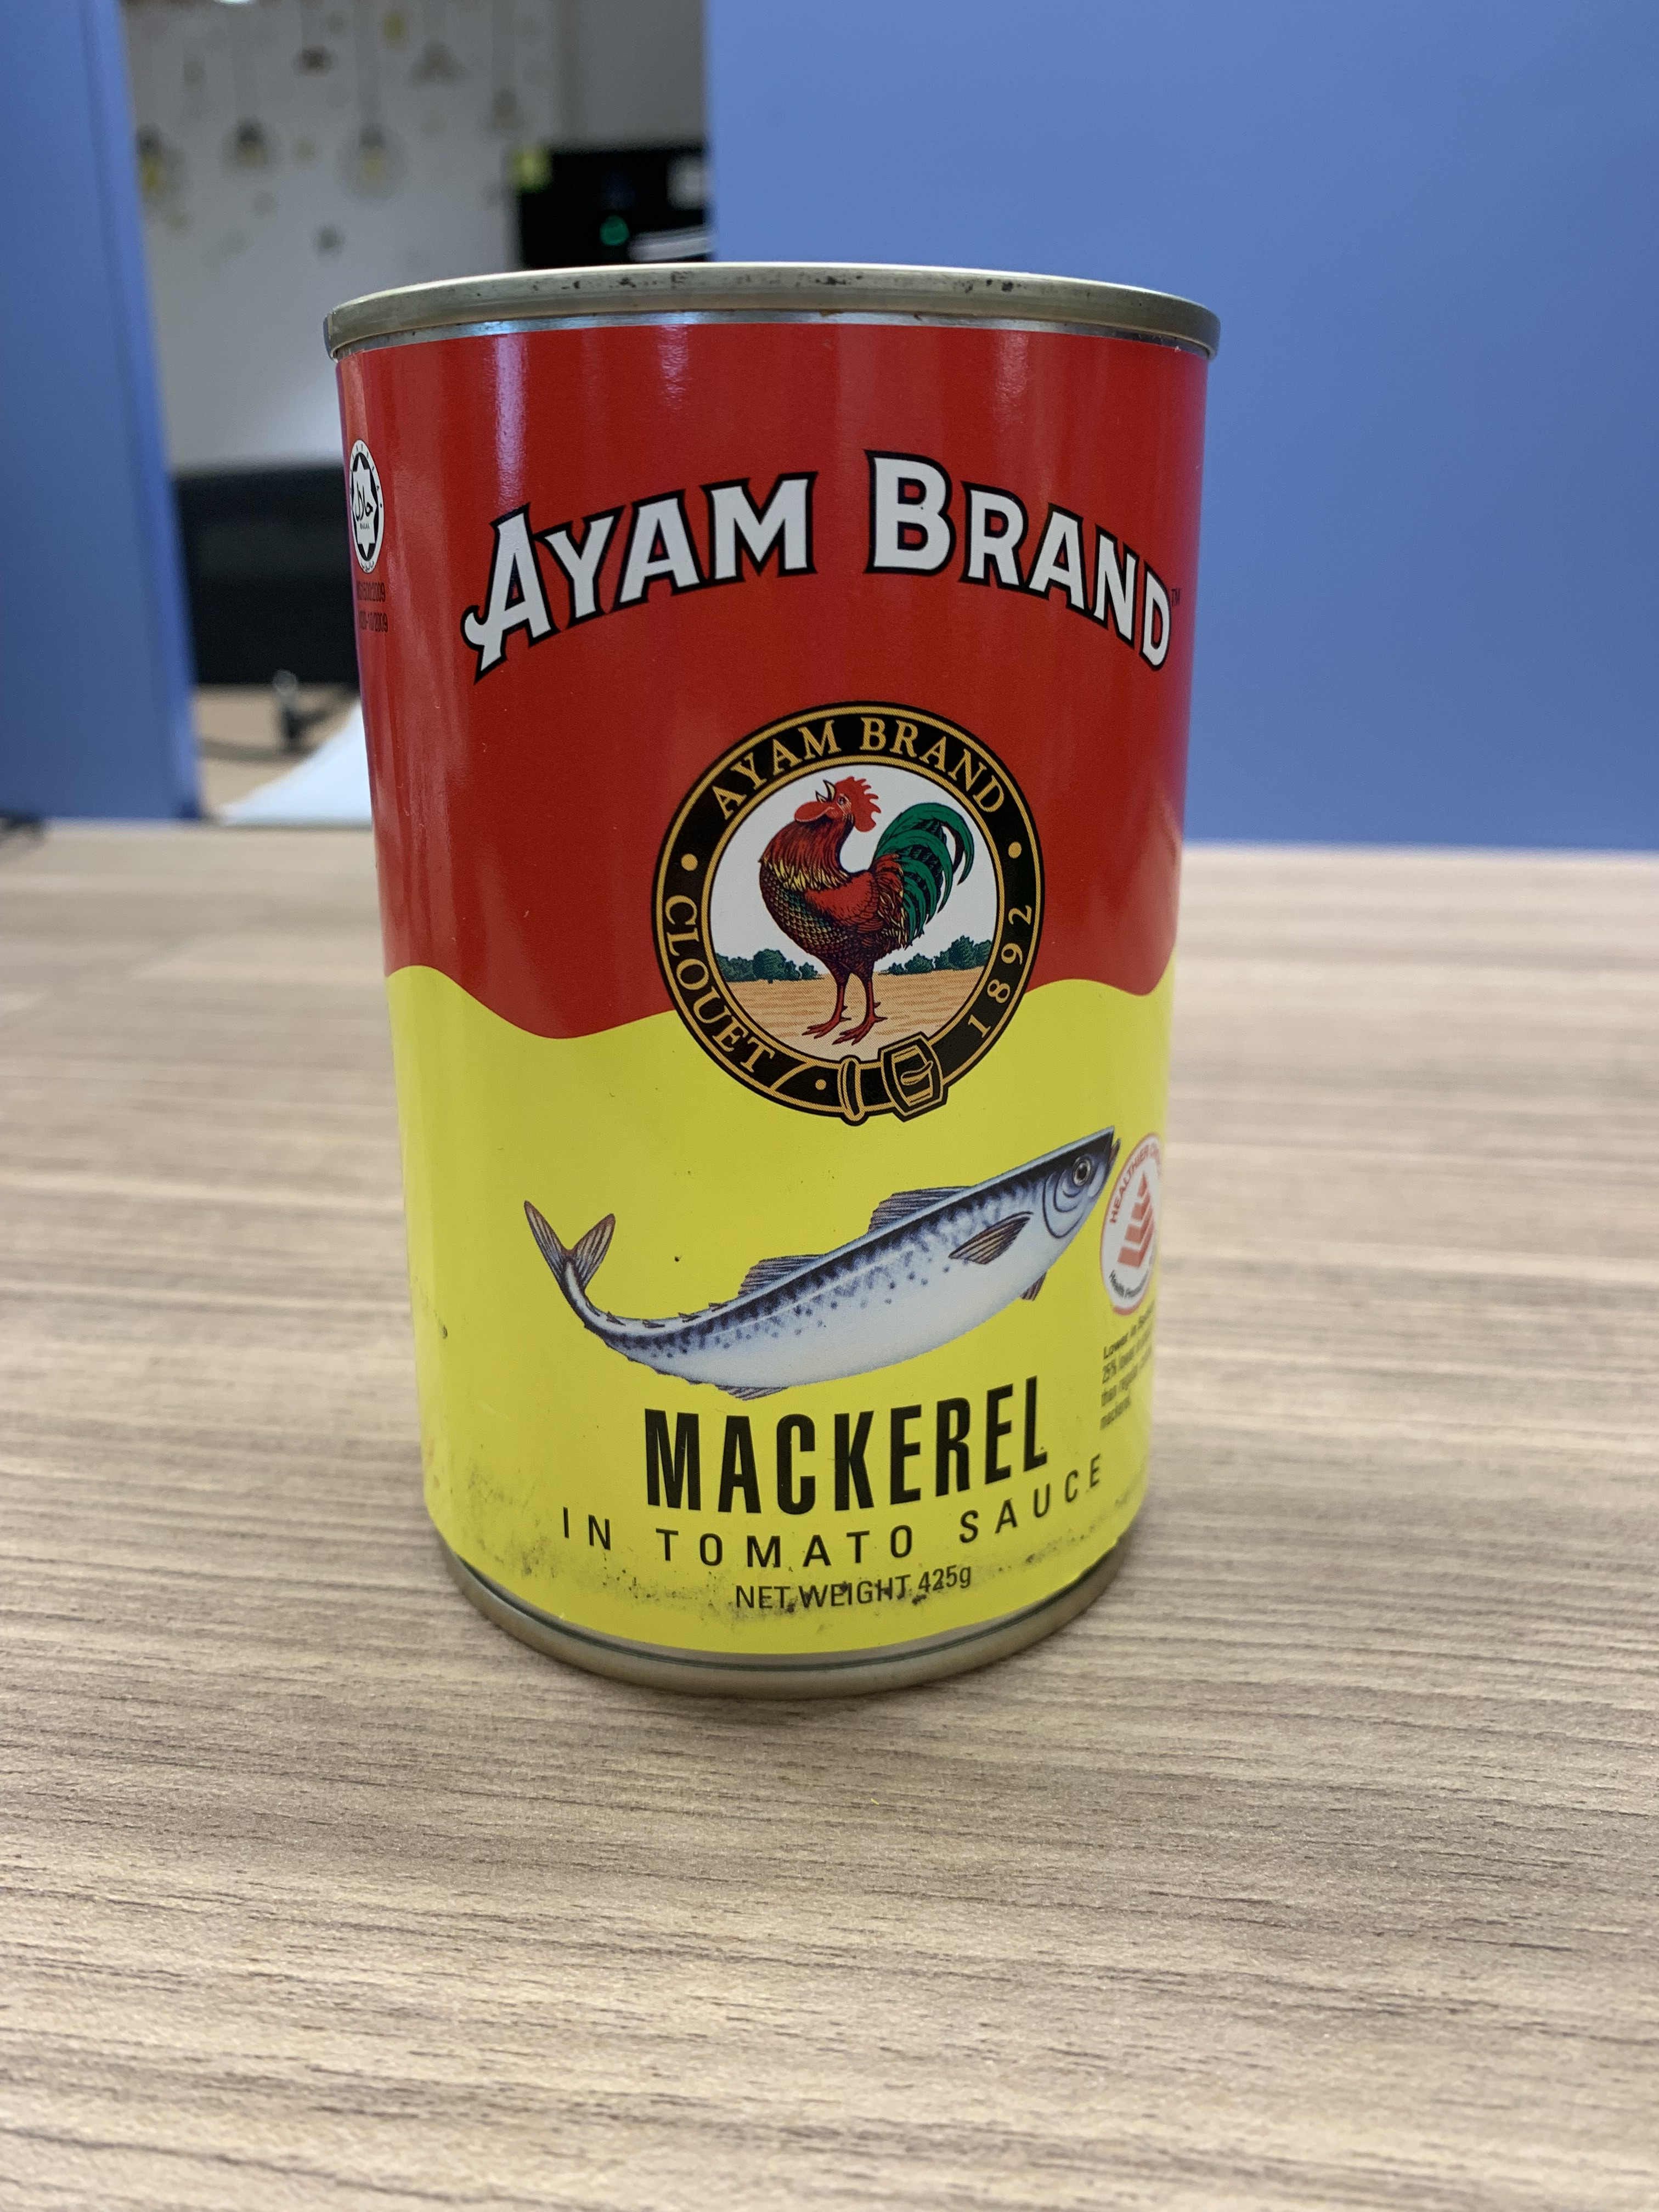sardines_400g-499g: (471, 352, 1157, 1623)
